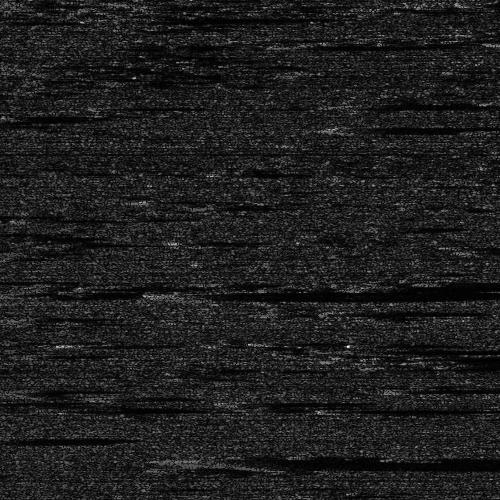rock: (305, 344, 410, 353), (100, 290, 205, 299), (343, 382, 416, 393), (294, 404, 357, 413), (261, 40, 314, 49), (34, 403, 97, 410), (148, 457, 231, 462), (0, 383, 37, 394), (315, 124, 368, 131), (61, 15, 124, 20), (72, 104, 135, 109), (408, 359, 439, 368), (50, 340, 103, 345), (342, 283, 395, 288), (0, 314, 32, 319), (342, 308, 373, 313), (229, 400, 260, 405), (483, 52, 500, 61), (352, 100, 363, 109)
shadow: (153, 290, 438, 299), (326, 404, 500, 413), (190, 457, 500, 462), (288, 40, 449, 49), (380, 382, 500, 393), (358, 344, 500, 353), (358, 100, 489, 109), (17, 383, 120, 394), (342, 124, 500, 131), (0, 435, 105, 444), (66, 403, 199, 410), (93, 15, 265, 20), (358, 308, 500, 313), (424, 359, 500, 368), (369, 283, 500, 288), (245, 400, 363, 405), (77, 340, 184, 345), (12, 314, 116, 319), (104, 104, 189, 109), (0, 16, 47, 21)
